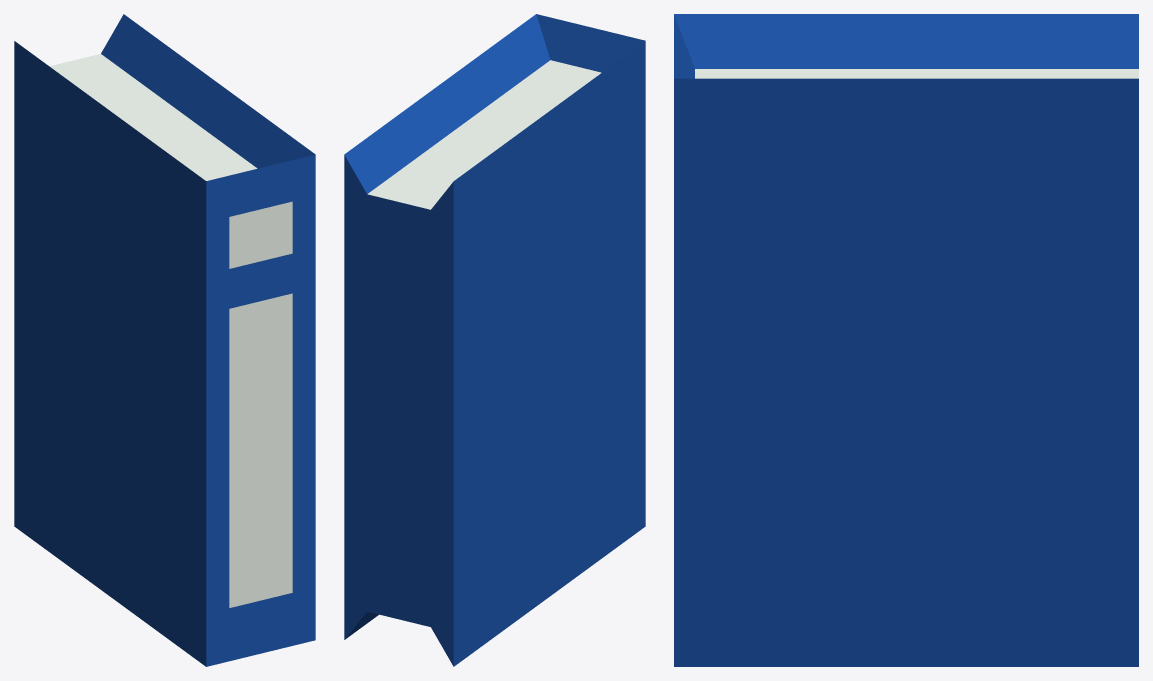
File: 5 folder.fbx
The picture shows the model from 3 angles, left to right: view 1: azimuth 30°, elevation 25°; view 2: azimuth 150°, elevation 25°; view 3: azimuth 270°, elevation 25°; orthographic projection. The views are drawn at different scales.
Parts seen in each view (by area): view 1: 5 folder; view 2: 5 folder; view 3: 5 folder.
Part boxes in pixels (x1,y1,x2,y2): 5 folder: (14, 14, 315, 666); 5 folder: (344, 14, 645, 666); 5 folder: (674, 14, 1138, 666).
Bounding box in the file's own units: 3.72 × 15.77 × 11.3.
